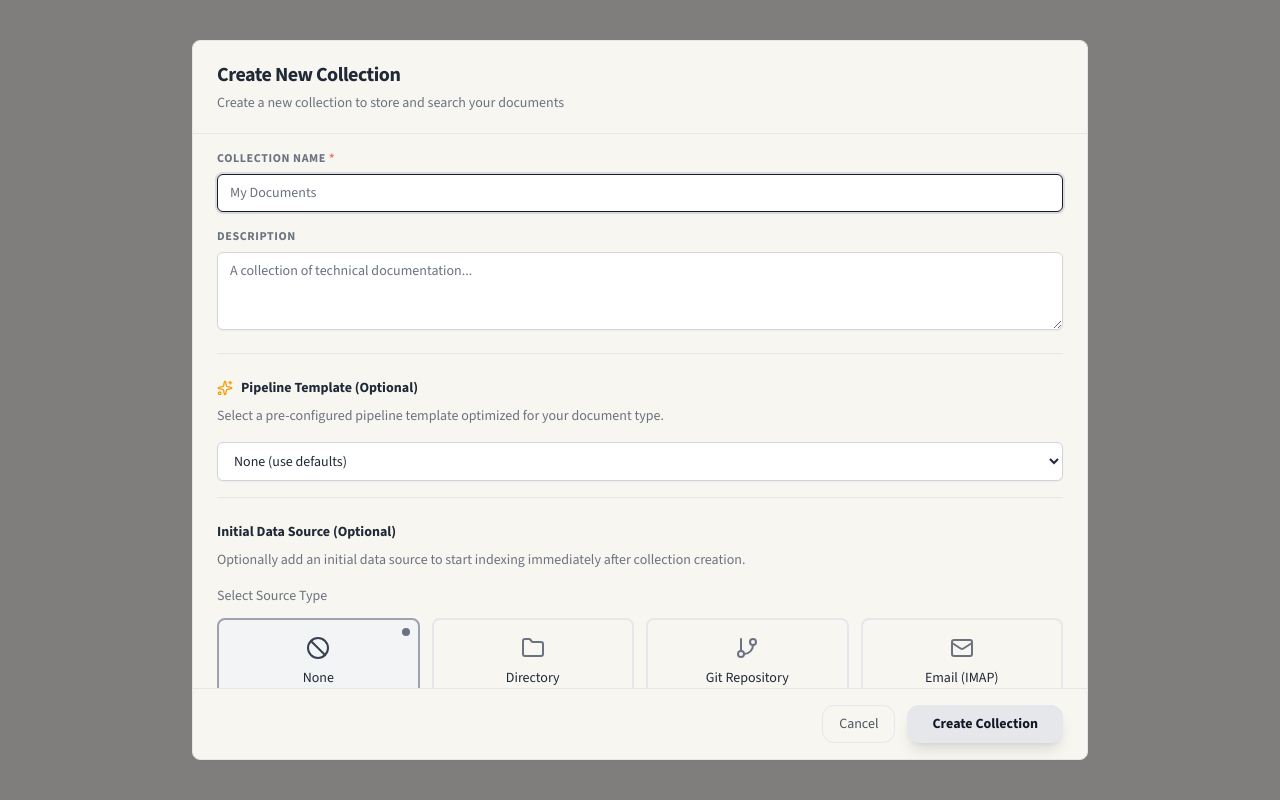
Test case: QuickCreateModal › Form Submission › should show loading state during submission
The width and height of the screenshot is (1280, 800).
In the field labelled "Collection Name *": (640, 193) [217, 174, 1063, 212], type "Test Collection"
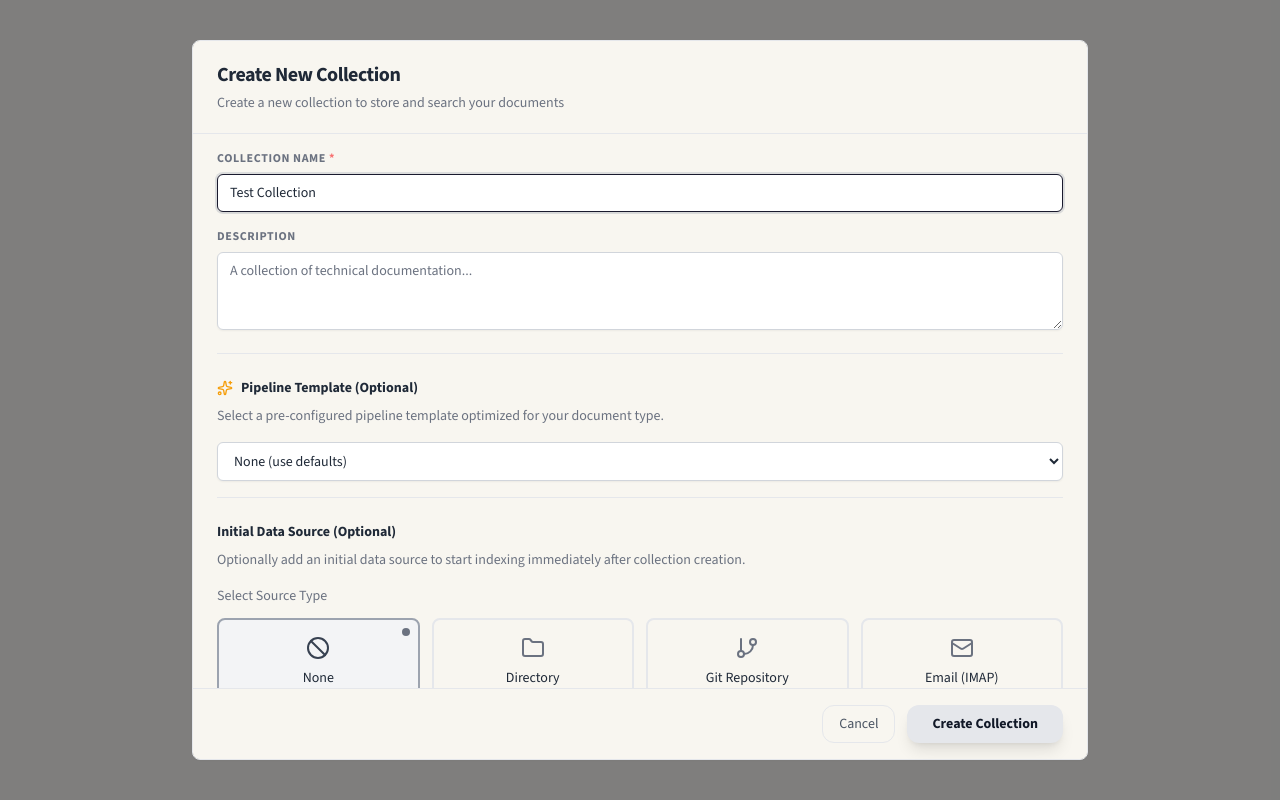
Click the button "Create Collection": (985, 724) [908, 705, 1063, 743]
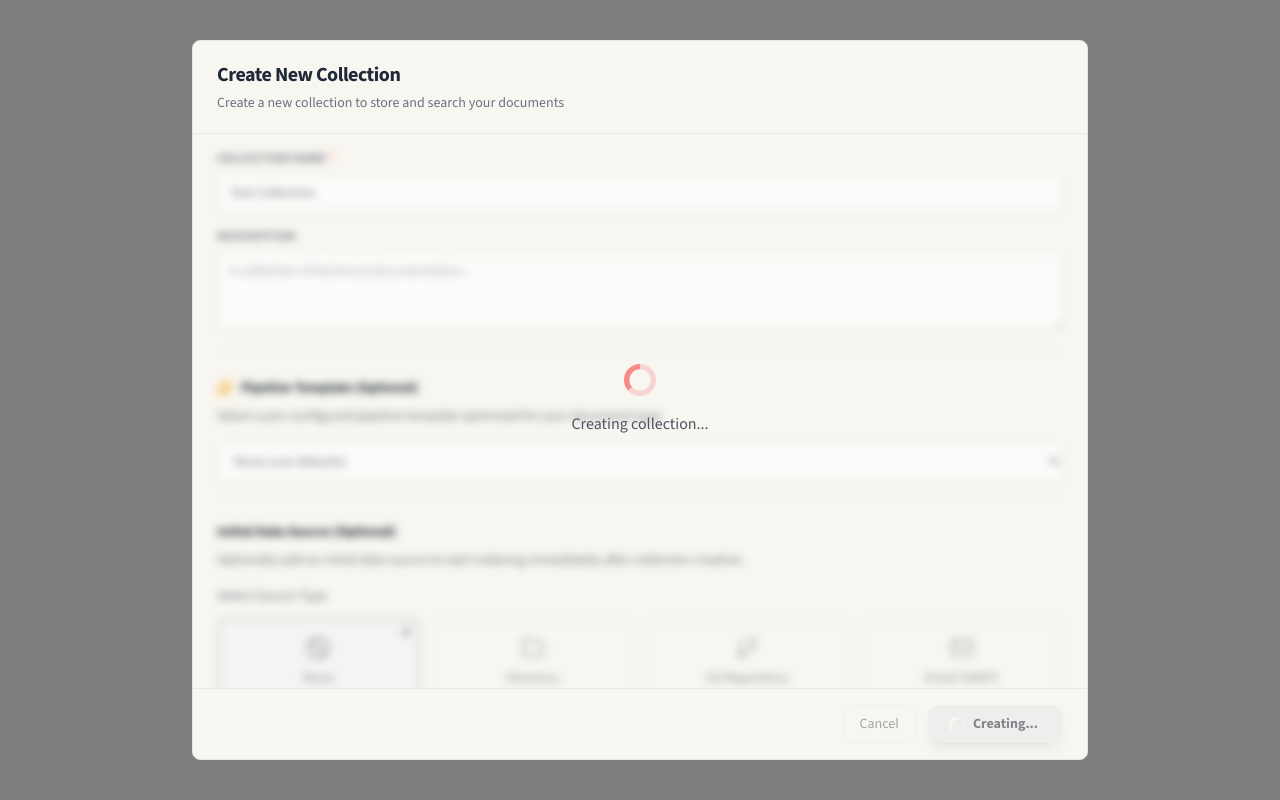
Result: the button named "create collection" is disabled at [928, 705, 1063, 743]
Result: the button named "create collection" shows "Creating" at [928, 705, 1063, 743]
Result: the text "Creating collection..." is shown at [572, 412, 708, 436]
